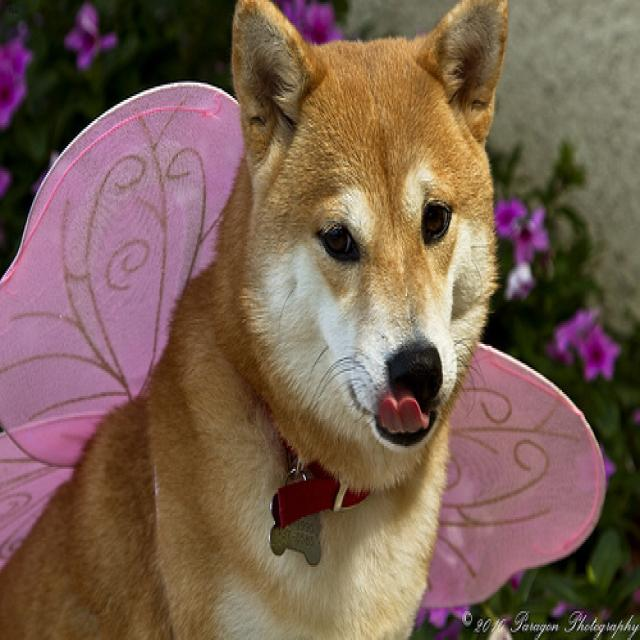dog-shiba_inu: (1, 2, 524, 636)
